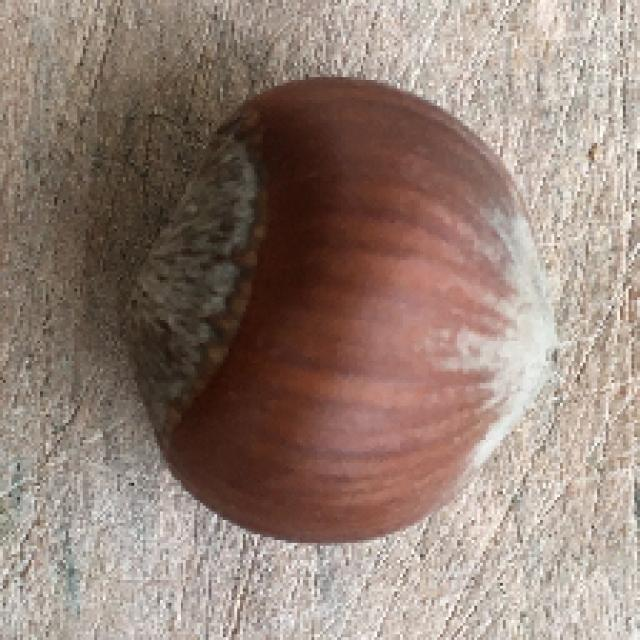damagedHazelnut: (123, 78, 567, 553)
